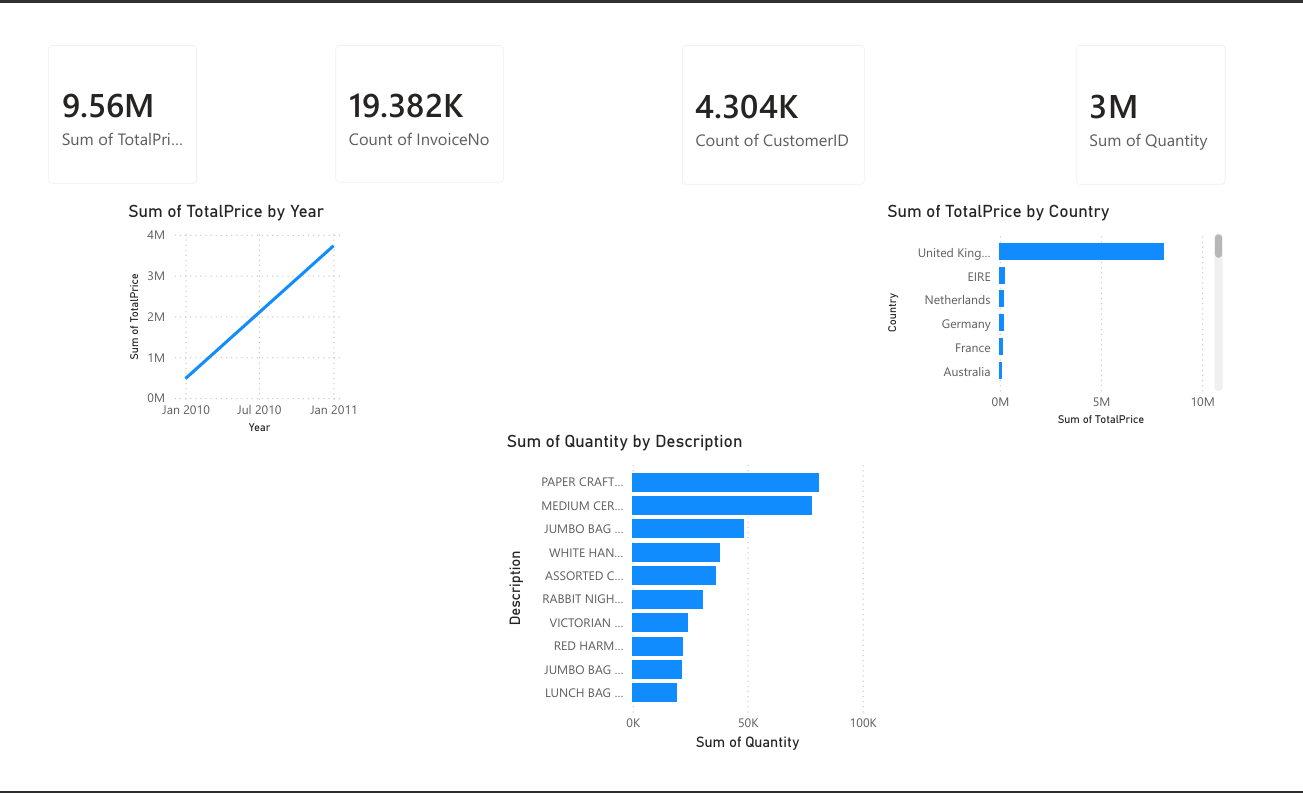

The page's visual inventory and layout, read from the dashboard file:
{"tool":"powerbi","page":{"name":"Executive Summary Dashboard","canvas":[1280,720],"ordinal":0},"visuals":[{"type":"cardVisual","fields":{"Data":["Sum(data.TotalPrice)"]},"box":[9.6,0,179.8,168.8],"z":0},{"type":"cardVisual","fields":{"Data":["Count(data.InvoiceNo)"]},"box":[290,0,198.3,168.3],"z":1000},{"type":"cardVisual","fields":{"Data":["Count(data.CustomerID)"]},"box":[628.3,0,211.7,170],"z":2000},{"type":"cardVisual","fields":{"Data":["Sum(data.Quantity)"]},"box":[1011.7,0,180,170],"z":3000},{"type":"lineChart","fields":{"Y":["Sum(data.TotalPrice)"],"Category":["data.InvoiceDate.Variation.Date Hierarchy.Year","data.InvoiceDate.Variation.Date Hierarchy.Month"]},"box":[100,168.6,234.3,232.9],"z":4000},{"type":"clusteredBarChart","fields":{"Category":["data.Country"],"Y":["Sum(data.TotalPrice)"]},"box":[840,168.6,337.1,224.3],"z":5000},{"type":"clusteredBarChart","fields":{"Category":["data.Description"],"Y":["Sum(data.Quantity)"]},"box":[468.8,392.5,371.2,317.5],"z":6000}]}

Visuals, with their boxes on the page's 1280x720 design canvas (x1, y1, x2, y2). These are canvas units, not pixel positions in the 1303x793 screenshot, which may show the page scaled, cropped or inside an application window:
cardVisual - Sum(data.TotalPrice): {"x1": 10, "y1": 0, "x2": 189, "y2": 169}
cardVisual - Count(data.InvoiceNo): {"x1": 290, "y1": 0, "x2": 488, "y2": 168}
cardVisual - Count(data.CustomerID): {"x1": 628, "y1": 0, "x2": 840, "y2": 170}
cardVisual - Sum(data.Quantity): {"x1": 1012, "y1": 0, "x2": 1192, "y2": 170}
lineChart - Sum(data.TotalPrice) x data.InvoiceDate.Variation.Date Hierarchy.Year: {"x1": 100, "y1": 169, "x2": 334, "y2": 402}
clusteredBarChart - data.Country x Sum(data.TotalPrice): {"x1": 840, "y1": 169, "x2": 1177, "y2": 393}
clusteredBarChart - data.Description x Sum(data.Quantity): {"x1": 469, "y1": 392, "x2": 840, "y2": 710}
